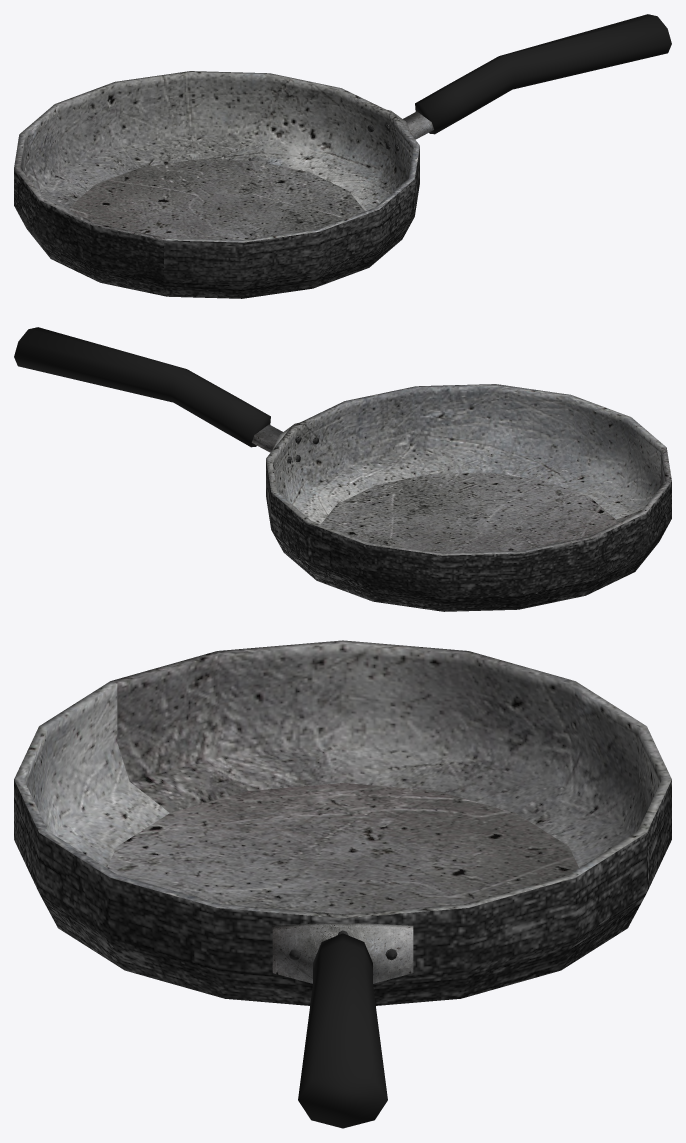
The model's file is Pan.fbx.
3 renders of one model, top to bottom at view 1: azimuth 30°, elevation 25°; view 2: azimuth 150°, elevation 25°; view 3: azimuth 270°, elevation 25°, orthographic. The views are drawn at different scales.
Parts seen in each view (by area): view 1: Cylinder.015; view 2: Cylinder.015; view 3: Cylinder.015.
Part boxes in pixels (bbox=[...]): Cylinder.015: bbox=[14, 14, 671, 298]; Cylinder.015: bbox=[14, 327, 671, 611]; Cylinder.015: bbox=[14, 640, 671, 1128].
Size of the model in its own units: 39.84 by 22.84 by 6.46.
3 materials, 2 textured.
